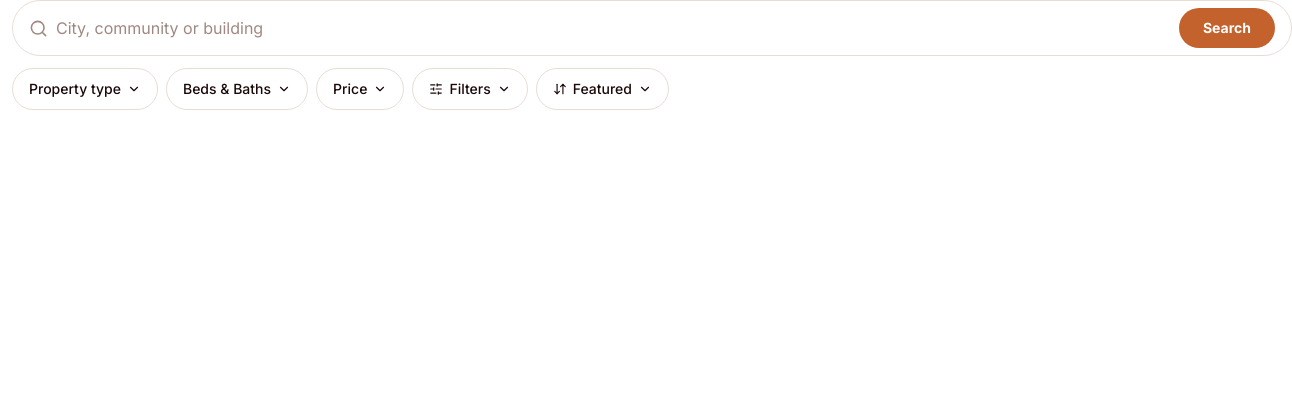
filter dropdowns › stays open when the panel itself is clicked, and applies the choice
Click the button "Property type" at (85, 89), box [12,68,158,110]
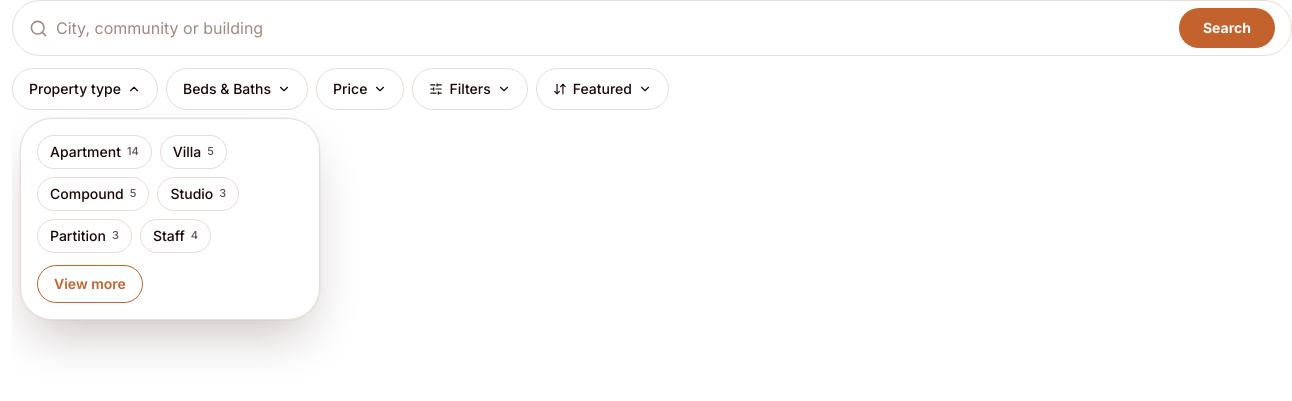
Click the button "Villa 5" at (193, 152), box [160,135,227,169]
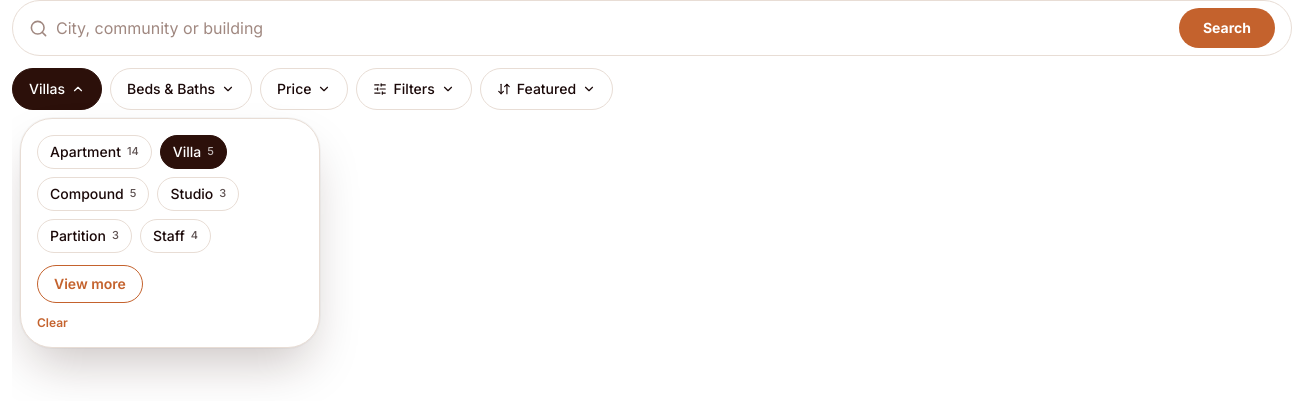
Now the button "Compound 5" is shown, box [37,177,149,211]
Now the button "Villas" is shown, box [12,68,102,110]
